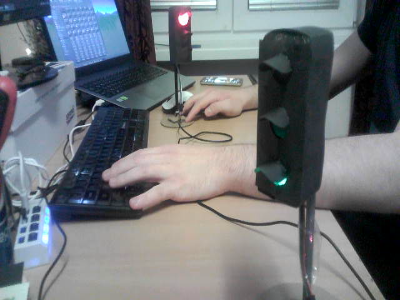trafficlight_green: (257, 39, 312, 188)
trafficlight_red: (173, 9, 192, 60)
